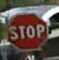stop: (5, 11, 48, 50)
